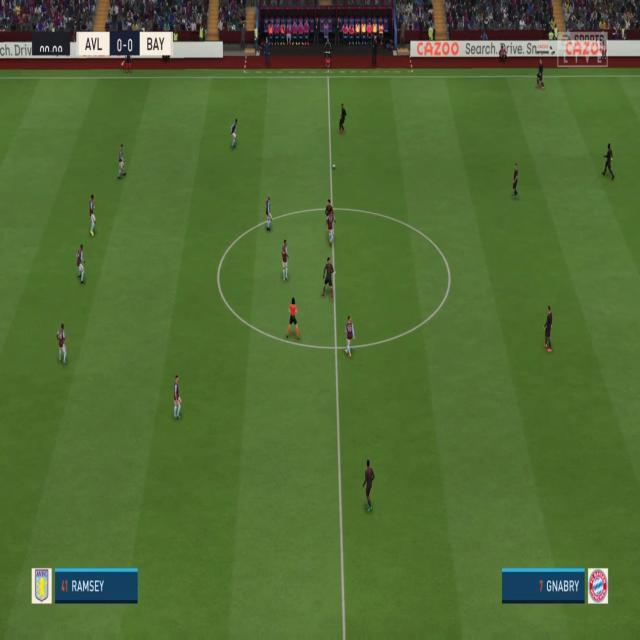Ball: (331, 163, 337, 170)
Referee: (284, 297, 300, 342)
Team-A: (362, 459, 375, 513), (320, 258, 334, 301), (601, 143, 616, 180), (544, 308, 554, 352), (324, 199, 334, 235), (536, 60, 548, 89), (338, 105, 348, 135), (512, 164, 520, 198)
Team-H: (280, 238, 292, 282), (344, 316, 356, 358), (76, 243, 88, 285), (56, 324, 67, 366), (174, 375, 184, 421), (87, 195, 97, 238), (263, 196, 274, 235), (119, 145, 129, 180), (327, 210, 335, 250), (229, 118, 239, 150)
